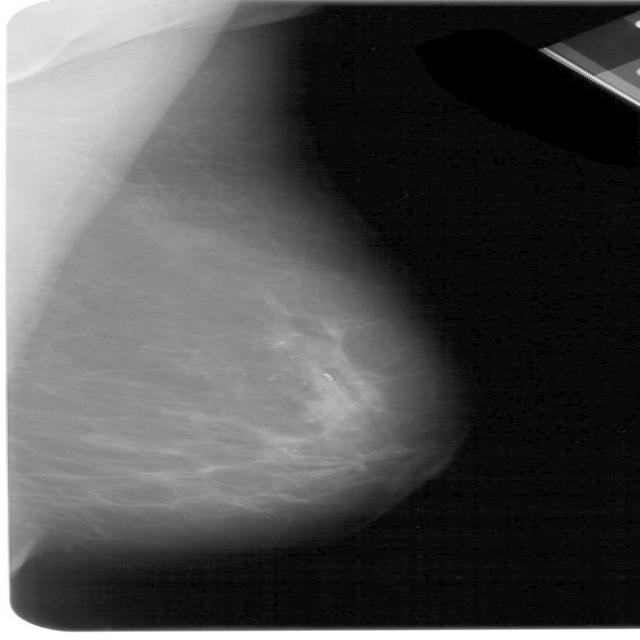tumour: (259, 320, 296, 347)
